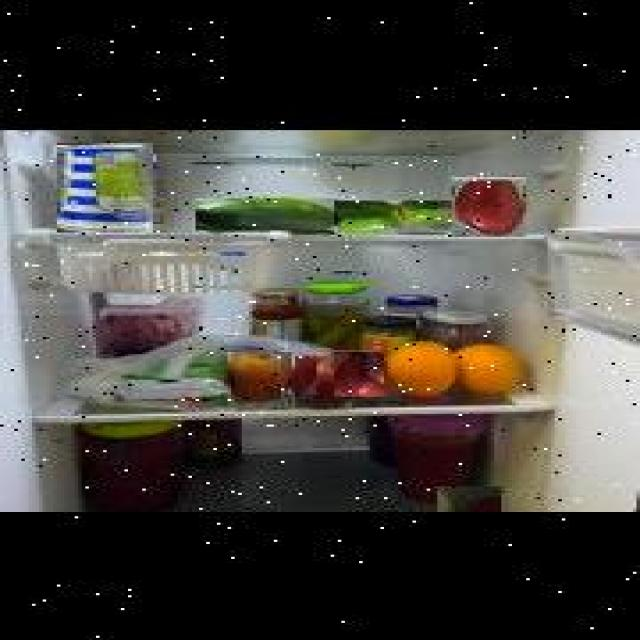apple: (452, 175, 526, 235), (228, 352, 292, 405), (297, 354, 354, 405), (334, 350, 384, 395)
cucumber: (195, 198, 338, 230), (334, 200, 402, 234), (398, 200, 455, 232)
tomato: (362, 482, 433, 512), (438, 484, 502, 512), (501, 486, 569, 512)
yogurt: (57, 143, 153, 230)
